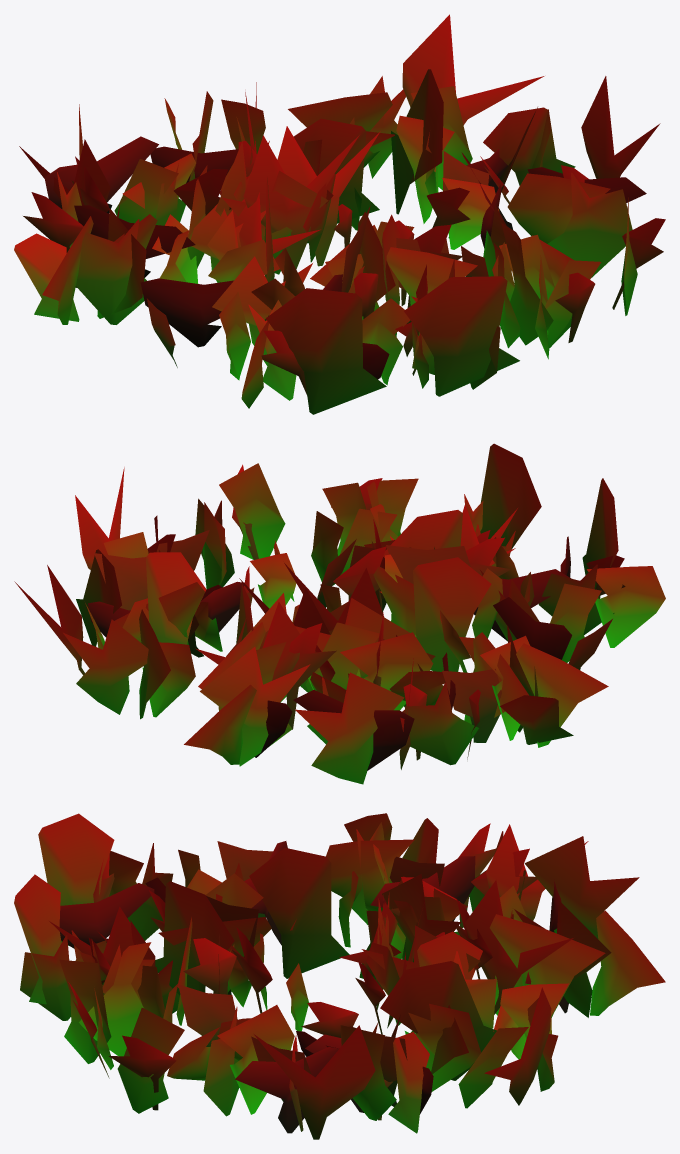
File: Grass_03.fbx
3 views of the same model, one above another, from view 1: azimuth 30°, elevation 25°; view 2: azimuth 150°, elevation 25°; view 3: azimuth 270°, elevation 25° (orthographic). The views are drawn at different scales.
Parts seen in each view (by area): view 1: Grass_03; view 2: Grass_03; view 3: Grass_03.
Boxes of the visible parts, x1=… form: Grass_03: x1=14, y1=14, x2=665, y2=414; Grass_03: x1=14, y1=443, x2=665, y2=784; Grass_03: x1=14, y1=813, x2=665, y2=1139.
Bounding box in the file's own units: 84.74 × 21.01 × 84.94.
